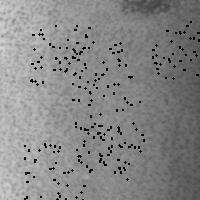pitted_surface: (1, 1, 197, 198), (30, 25, 88, 83), (72, 41, 130, 99), (24, 143, 83, 200), (75, 122, 132, 178), (87, 97, 143, 150), (152, 21, 200, 77)
